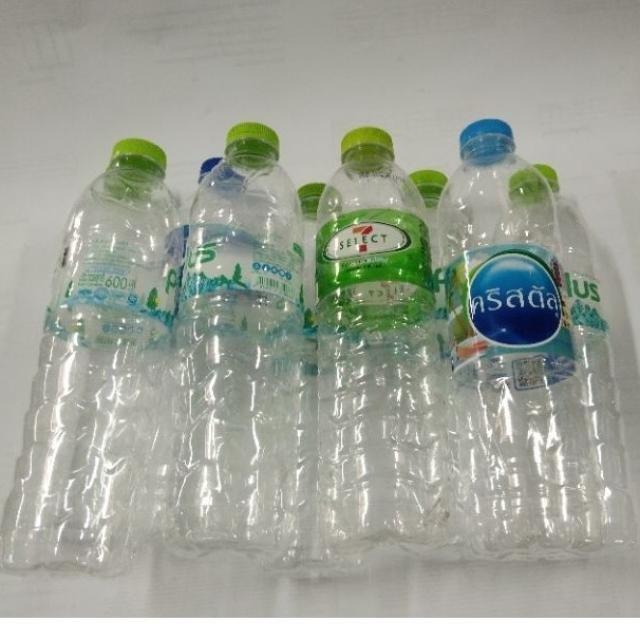plastik: (0, 138, 182, 573), (439, 119, 605, 557), (167, 122, 303, 559), (317, 127, 449, 553)
